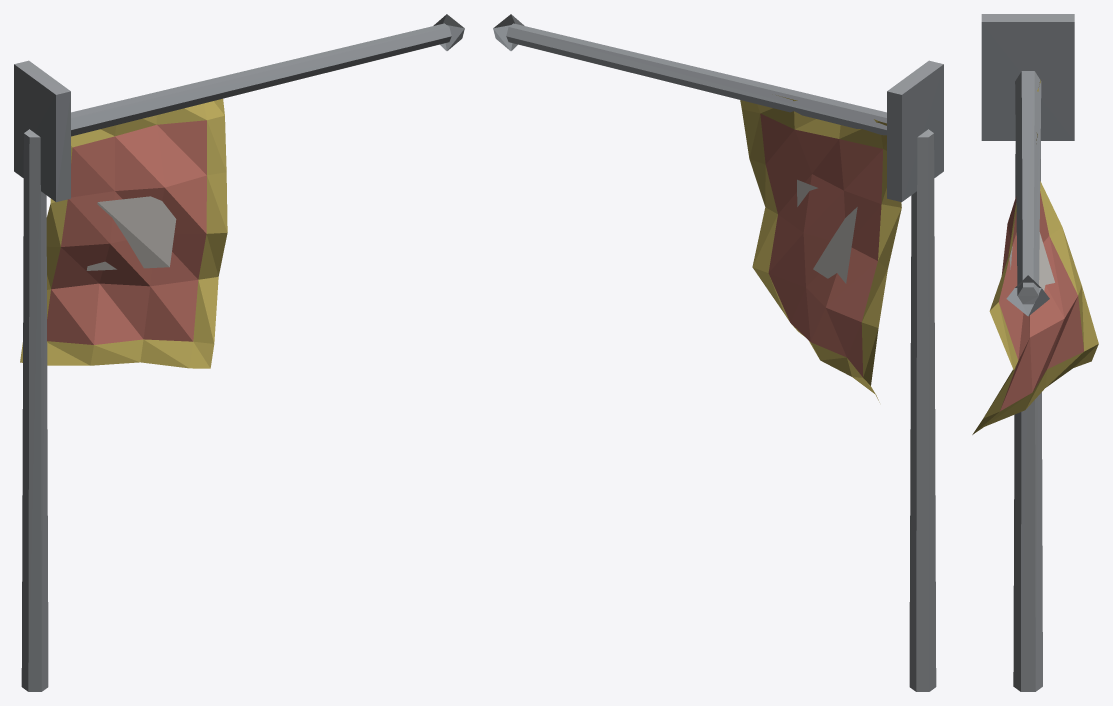
The model's file is flag.rect.chizhi__pole.horizontal.big__armHang.glb.
3 renders of one model, left to right at view 1: azimuth 30°, elevation 25°; view 2: azimuth 150°, elevation 25°; view 3: azimuth 270°, elevation 25°, orthographic. The views are drawn at different scales.
Visible parts, largest first — view 1: flag.rect.chizhi; view 2: flag.rect.chizhi; view 3: flag.rect.chizhi.
Boxes of the visible parts, box(x1,y1,x2,y2) form: flag.rect.chizhi: box(14, 14, 464, 691); flag.rect.chizhi: box(493, 14, 943, 691); flag.rect.chizhi: box(972, 14, 1098, 691).
Bounding box in the file's own units: 2.66 × 3.51 × 0.5998.
